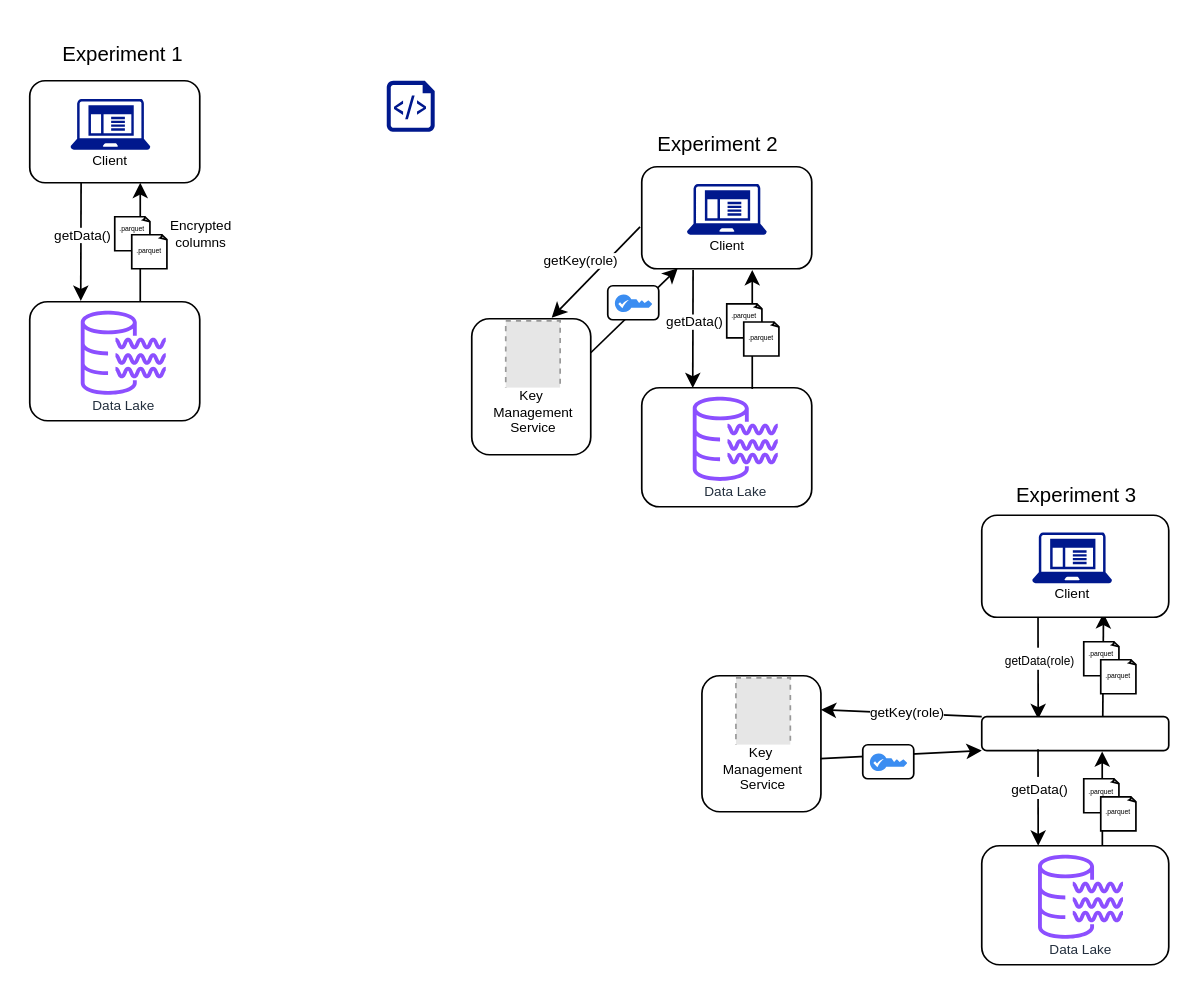
Image size: 1199x995. Some labels were removed from this diagram. Grey dashed boxes stand in for pictures. Here are the shapes that lost their labels. From the top down, the centre of each, then its label:
At (410,105): "Script".
At (1074,733): "Data Access Layer".
